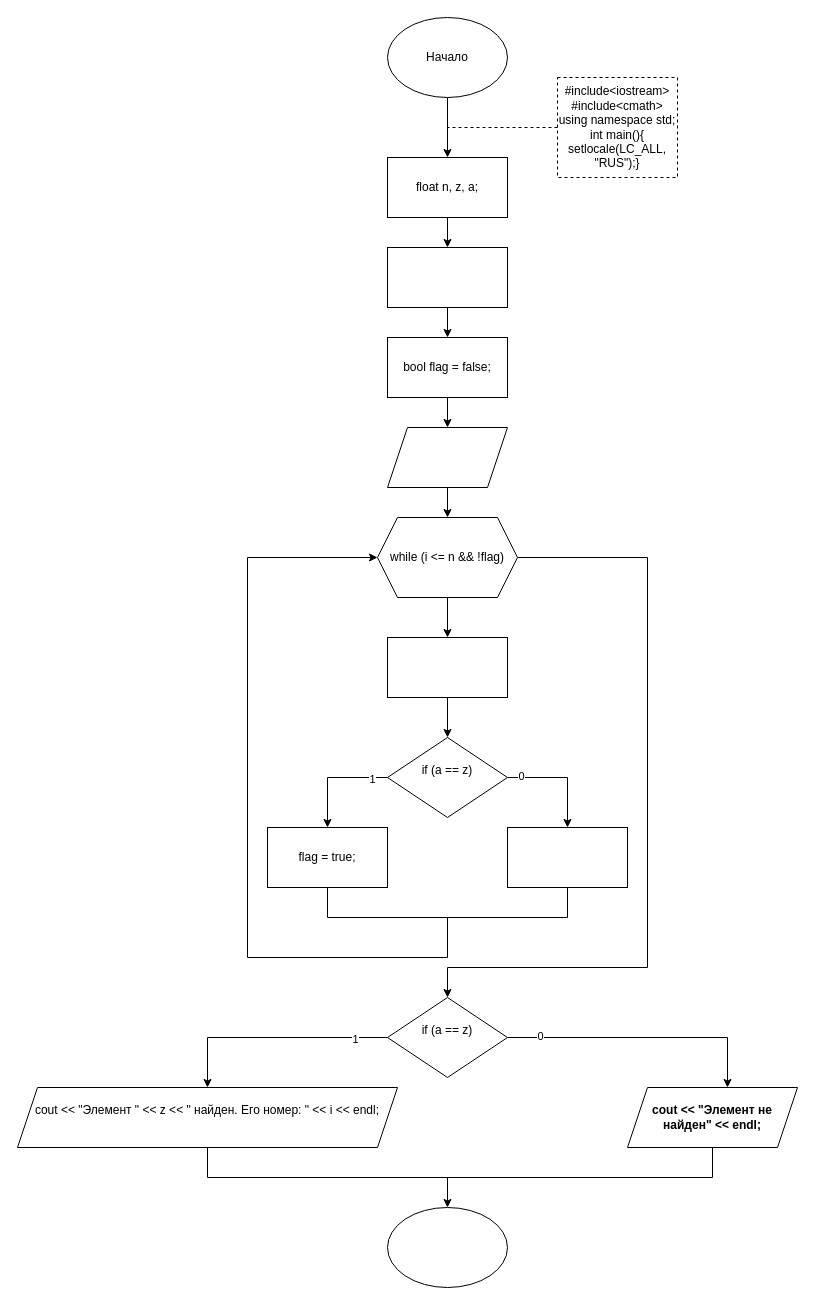
Some shapes in this 815 by 1305 pixel diagram are drawn without their labels. Here are the shapes that lost their labels. From the top down, the centre of each, then its label:
At point 447,277: "int i = 1;".
At point 447,457: "cin >> n >> z;".
At point 447,667: "a = sin(n + i / n);".
At point 567,857: "i++;".
At point 447,1247: "Конец".
